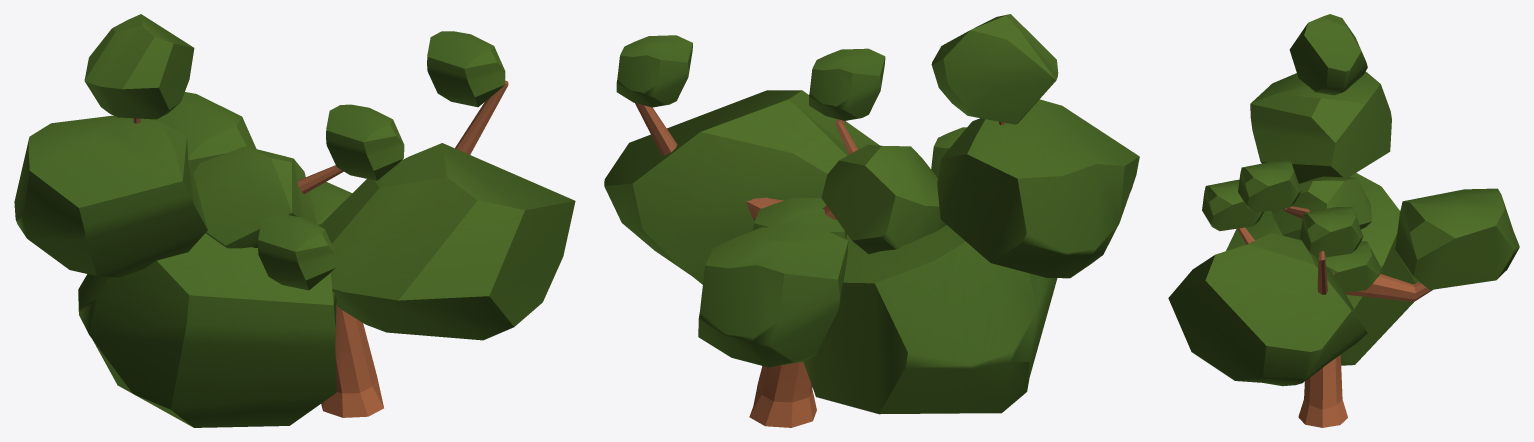
The model's file is arbusto5.fbx.
3 views of the same model, side by side, from view 1: azimuth 30°, elevation 25°; view 2: azimuth 150°, elevation 25°; view 3: azimuth 270°, elevation 25° (orthographic). The views are drawn at different scales.
Visible parts, largest first — view 1: arbusto19; view 2: arbusto19; view 3: arbusto19.
Boxes of the visible parts, bbox=[...] form: arbusto19: bbox=[14, 14, 575, 427]; arbusto19: bbox=[604, 14, 1139, 427]; arbusto19: bbox=[1168, 14, 1519, 427].
Bounding box in the file's own units: 344 × 277 × 273.
